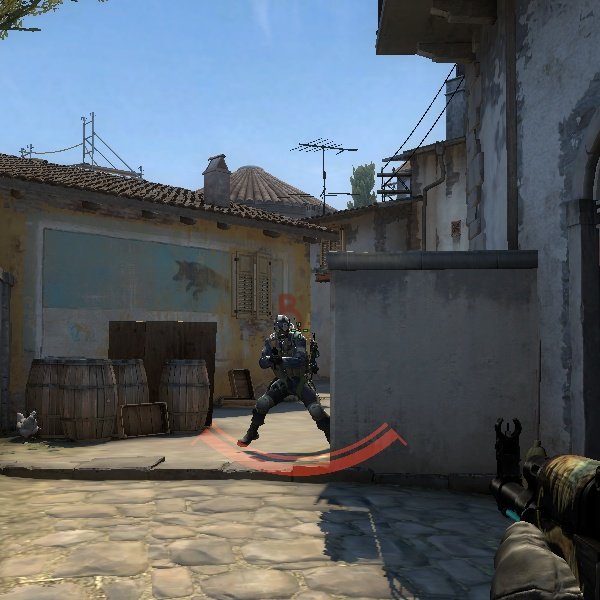ct_body: (244, 311, 325, 455)
